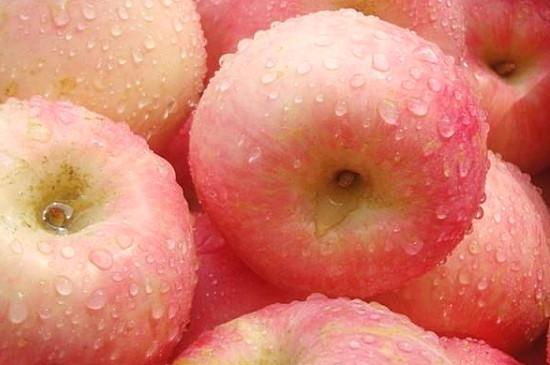apple: (189, 9, 490, 300), (1, 107, 194, 365), (172, 294, 465, 365), (432, 1, 550, 168)
